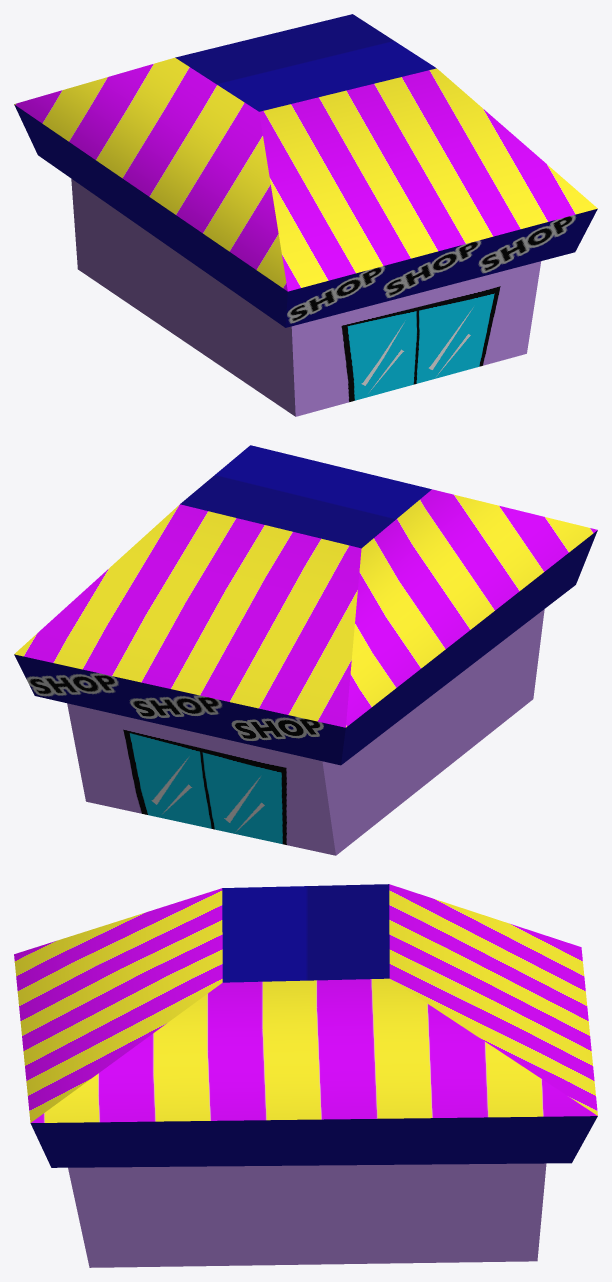
The model's file is Shop.fbx.
3 renders of one model, top to bottom at view 1: azimuth 30°, elevation 25°; view 2: azimuth 150°, elevation 25°; view 3: azimuth 270°, elevation 25°, orthographic. The views are drawn at different scales.
Visible parts, largest first — view 1: polySurface5; view 2: polySurface5; view 3: polySurface5.
Part boxes in pixels (x1,y1,x2,y2): polySurface5: (14, 14, 597, 416); polySurface5: (14, 445, 597, 855); polySurface5: (14, 884, 597, 1267).
Bounding box in the file's own units: 28.53 × 20.4 × 40.02.
